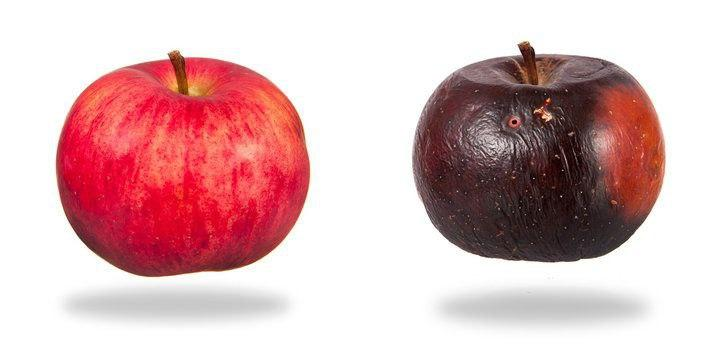Apple: (54, 56, 309, 280), (413, 52, 666, 263)
